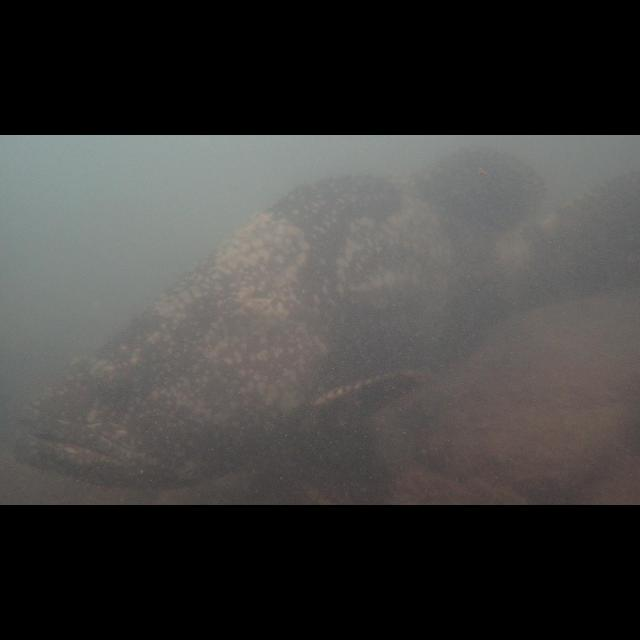Groupers: (12, 148, 640, 492)
